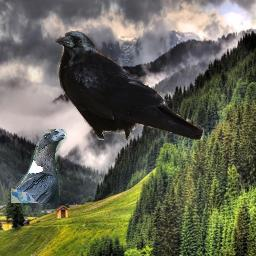Crow: (53, 30, 204, 140), (11, 129, 67, 203)
